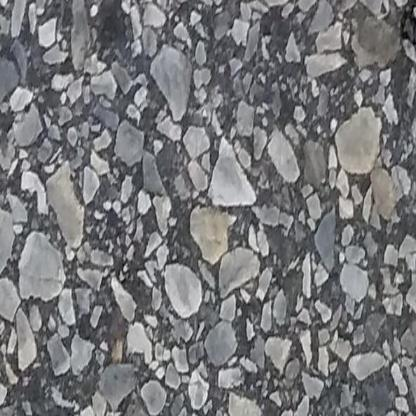Cracks: (397, 0, 416, 231)
